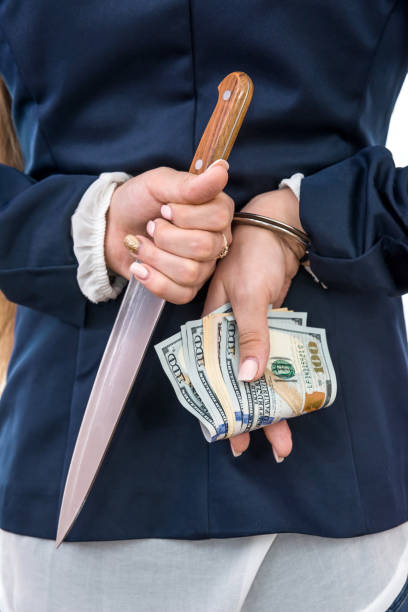knife: (52, 71, 255, 552)
